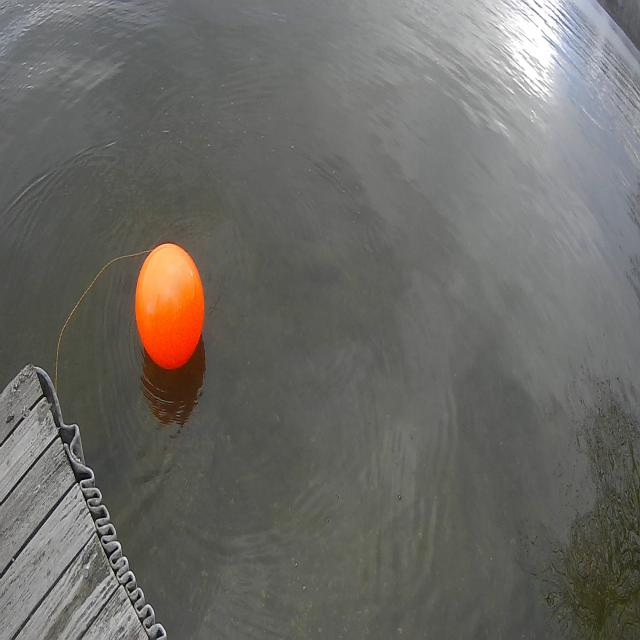Buoy: (130, 231, 210, 381)
